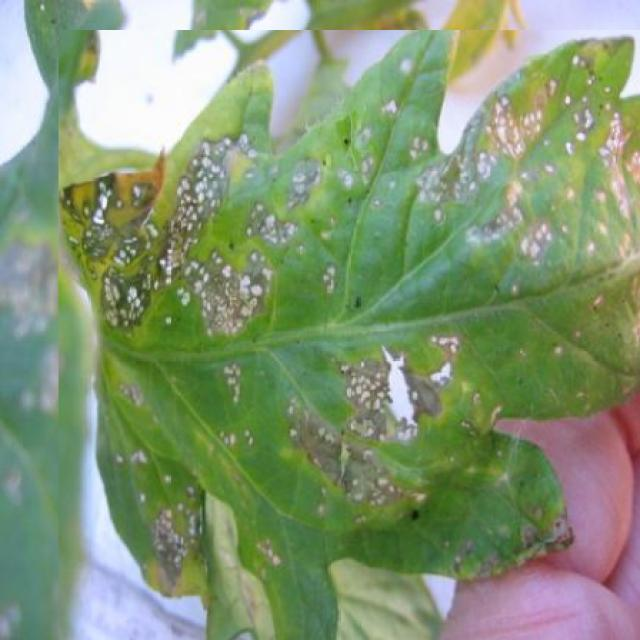Septoria: (58, 30, 640, 640)
